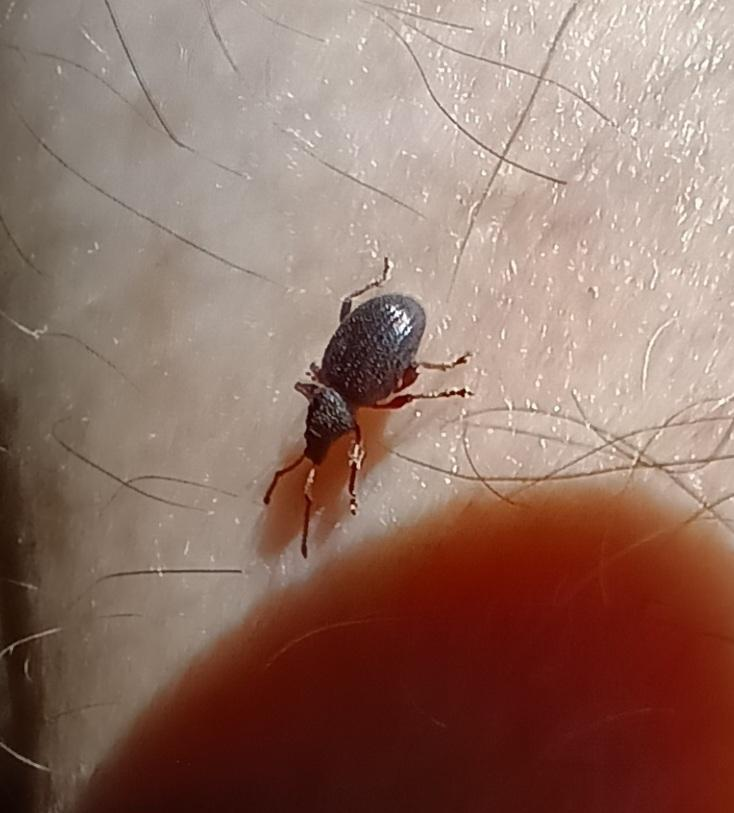weevils: (209, 217, 541, 579)
